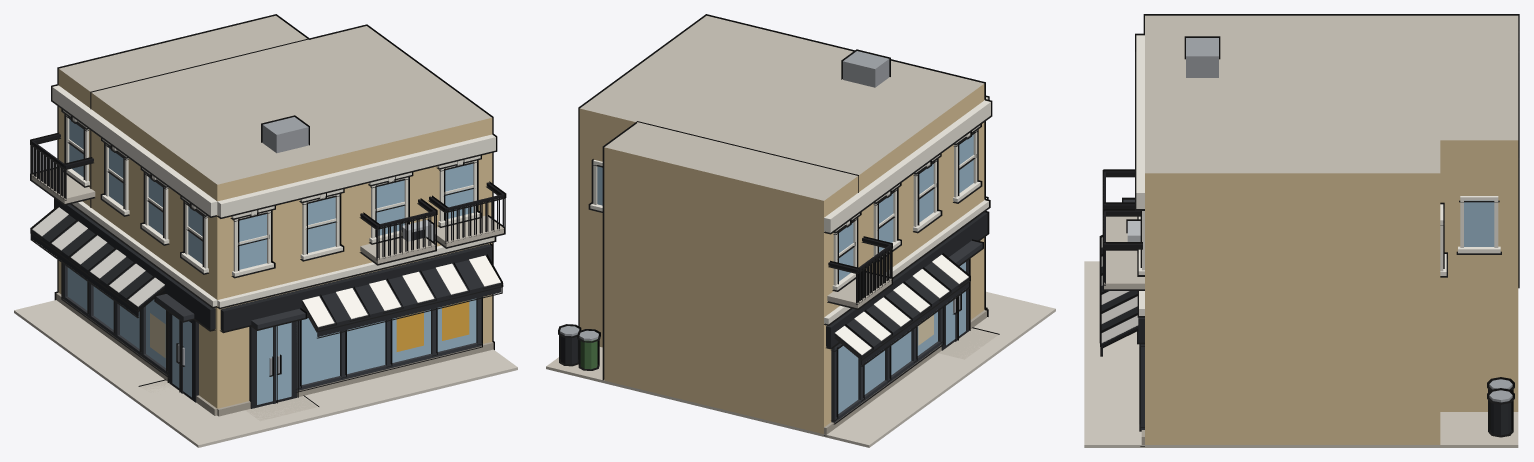
The model's file is Blok_kose_2k_1.fbx.
3 views of the same model, side by side, from view 1: azimuth 30°, elevation 25°; view 2: azimuth 150°, elevation 25°; view 3: azimuth 270°, elevation 25° (orthographic). The views are drawn at different scales.
Visible parts, largest first — view 1: Blok_kose_2k_1; view 2: Blok_kose_2k_1; view 3: Blok_kose_2k_1.
Boxes of the visible parts, x1,y1,x2,y2 form: Blok_kose_2k_1: [14, 14, 517, 447]; Blok_kose_2k_1: [546, 14, 1055, 447]; Blok_kose_2k_1: [1084, 14, 1519, 447].
Bounding box in the file's own units: 10.03 × 7.63 × 10.03.
